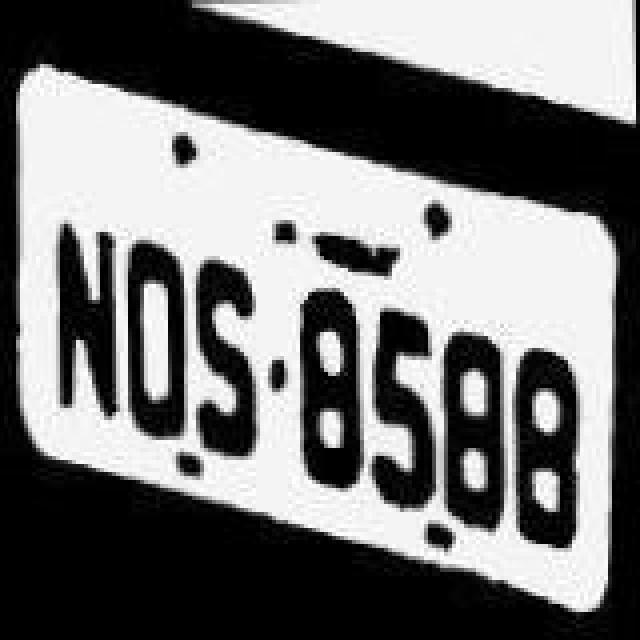5: (368, 292, 444, 520)
8: (288, 276, 372, 508), (514, 318, 594, 554), (440, 318, 516, 534)
N: (42, 210, 126, 438)
O: (122, 216, 198, 444)
S: (192, 248, 272, 460)
